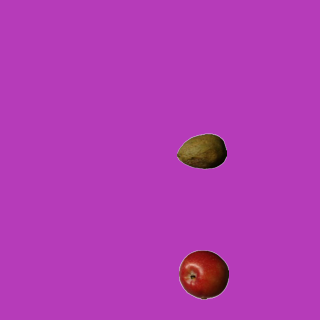Apple Braeburn: (178, 249, 228, 299)
Papaya: (176, 126, 226, 176)
